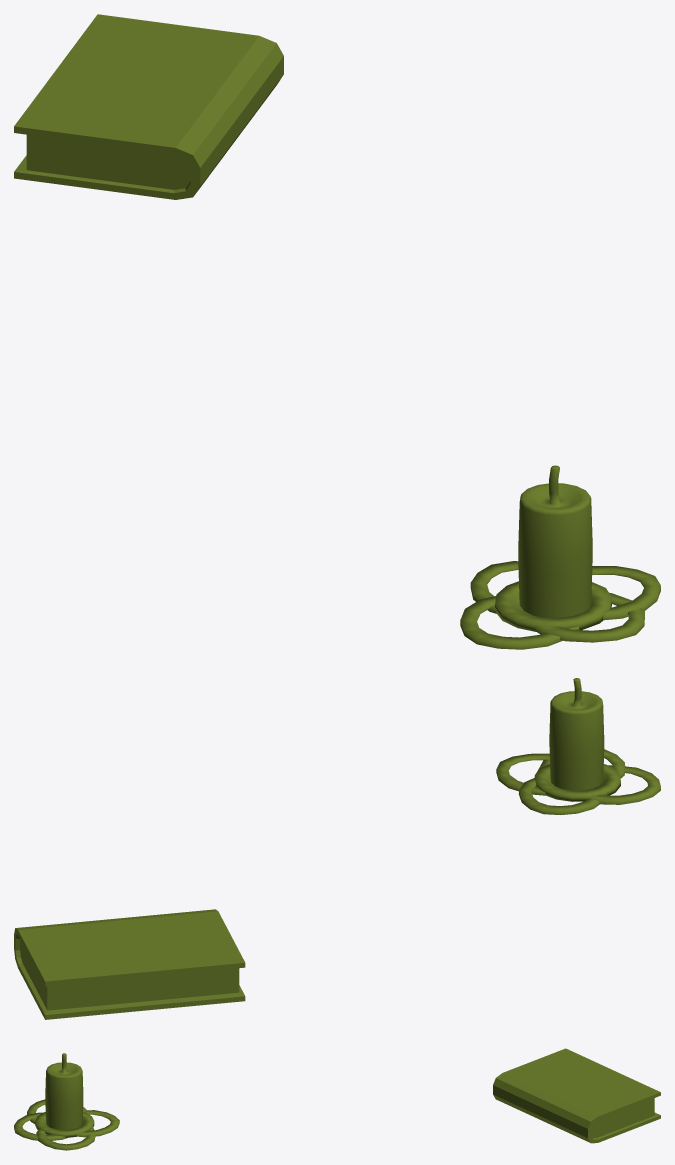
The model's file is LivrosVela.fbx.
3 renders of one model, top to bottom at view 1: azimuth 30°, elevation 25°; view 2: azimuth 150°, elevation 25°; view 3: azimuth 270°, elevation 25°, orthographic. The views are drawn at different scales.
Visible parts, largest first — view 1: Cube.000, Cube.001; view 2: Cube.000, Cube.001; view 3: Cube.000, Cube.001.
Part boxes in pixels (bbox=[...]): Cube.000: bbox=[14, 14, 283, 199]; Cube.001: bbox=[460, 465, 660, 649]; Cube.000: bbox=[14, 909, 245, 1019]; Cube.001: bbox=[496, 678, 660, 814]; Cube.000: bbox=[493, 1048, 660, 1143]; Cube.001: bbox=[14, 1053, 119, 1150].
Bounding box in the file's own units: 372 × 148 × 1200.
